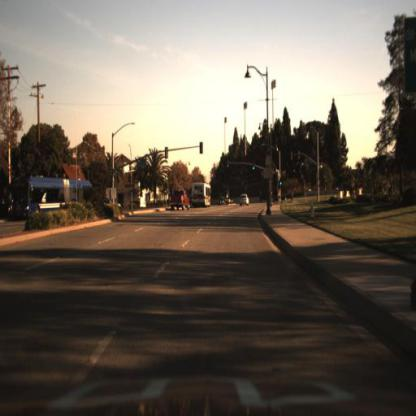car: (167, 188, 192, 217), (192, 181, 214, 211), (240, 189, 252, 207), (238, 194, 253, 208)
pedestrian: (280, 191, 283, 206)
truck: (9, 174, 116, 221), (192, 184, 215, 210)
